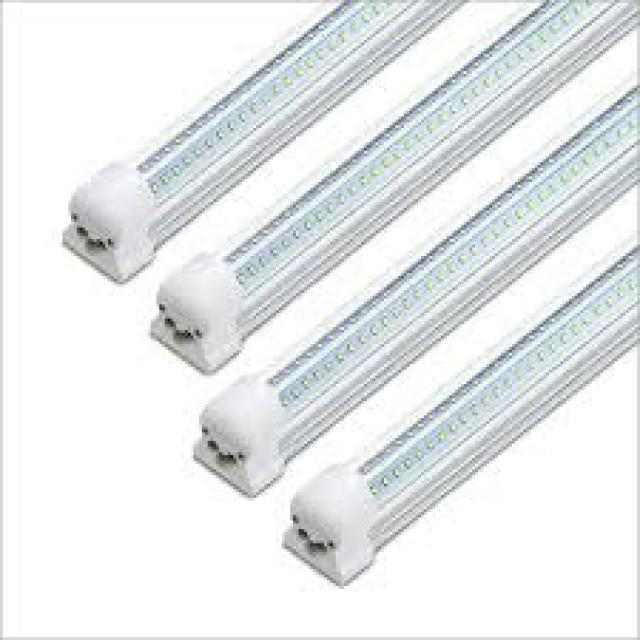tubelight_off: (164, 62, 640, 509), (124, 0, 640, 388), (250, 218, 640, 600), (30, 0, 494, 286)
